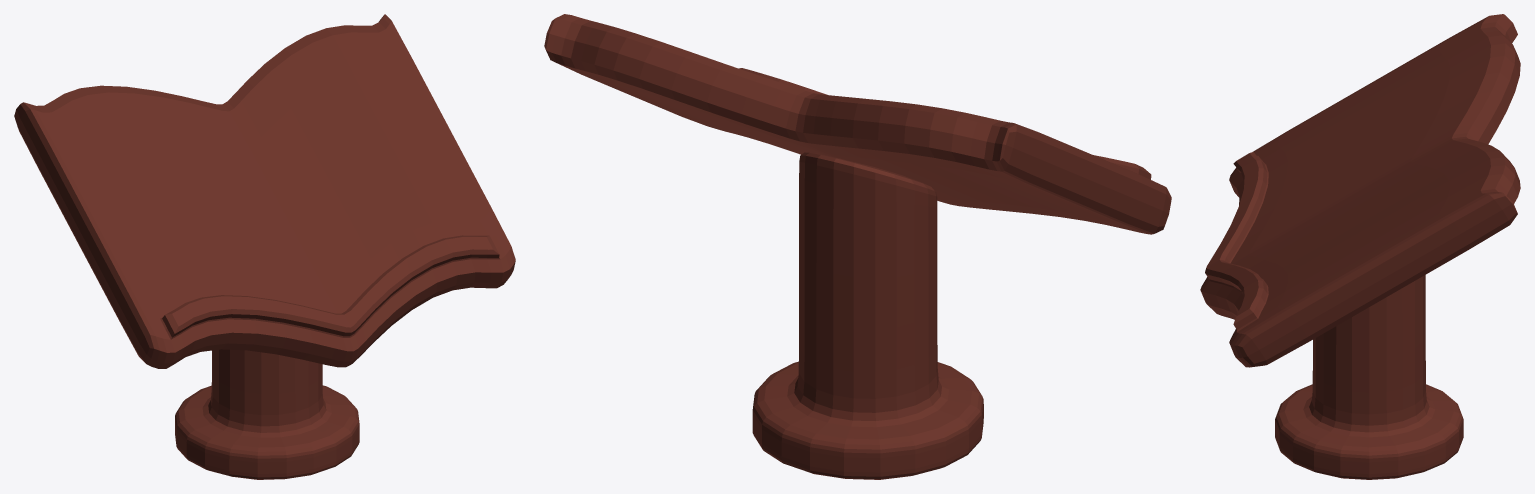
Rendered from atril.fbx.
3 renders of one model, left to right at view 1: azimuth 30°, elevation 25°; view 2: azimuth 150°, elevation 25°; view 3: azimuth 270°, elevation 25°, orthographic. The views are drawn at different scales.
Parts seen in each view (by area): view 1: atril; view 2: atril; view 3: atril.
Part boxes in pixels (x1=…): atril: x1=14, y1=14, x2=515, y2=479; atril: x1=544, y1=14, x2=1171, y2=479; atril: x1=1200, y1=14, x2=1520, y2=479.
Bounding box in the file's own units: 97.9 × 86.03 × 72.58.
